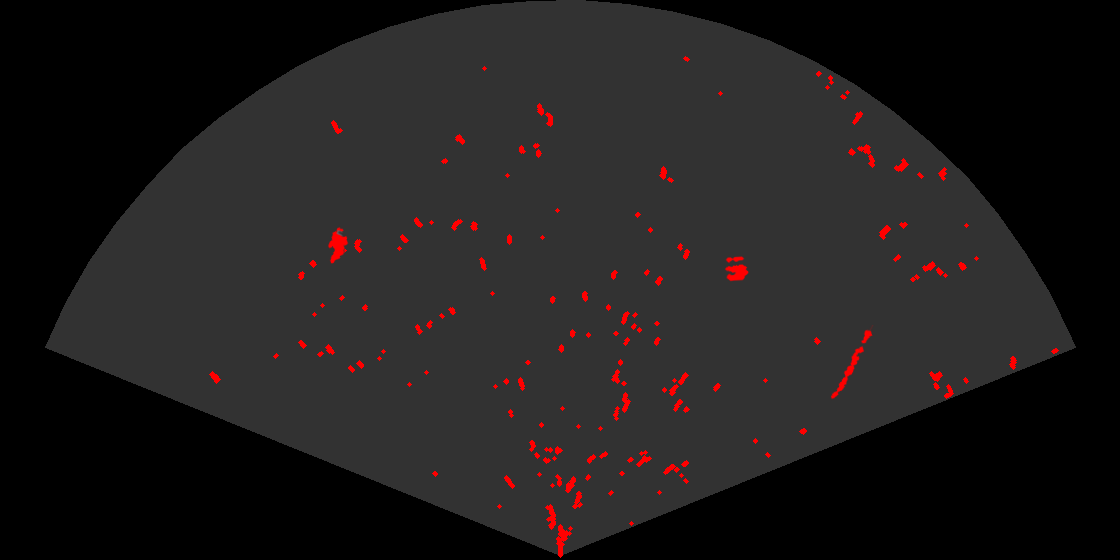AUV: (326, 225, 350, 266)
ball: (723, 255, 750, 283)
chain: (829, 325, 875, 401)
